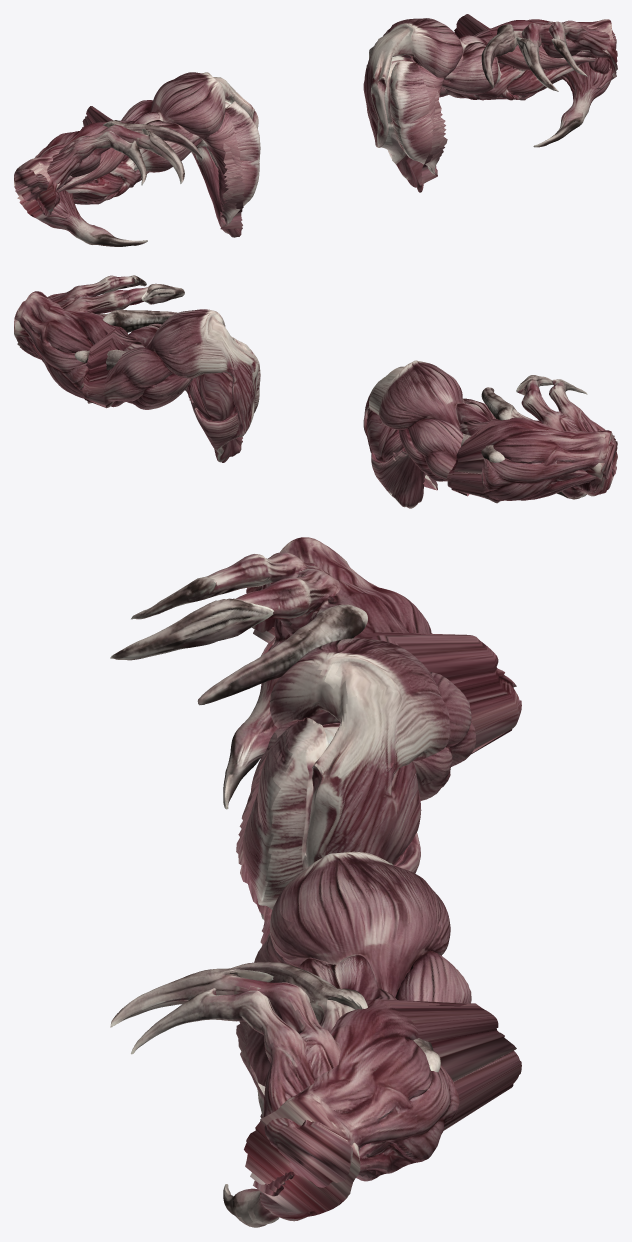
Rendered from aethelred_braco_mutante_rig.glb.
3 renders of one model, top to bottom at view 1: azimuth 30°, elevation 25°; view 2: azimuth 150°, elevation 25°; view 3: azimuth 270°, elevation 25°, orthographic. The views are drawn at different scales.
Visible parts, largest first — view 1: bracos; view 2: bracos; view 3: bracos.
Part boxes in pixels (x1=…): bracos: x1=14, y1=14, x2=617, y2=246; bracos: x1=14, y1=275, x2=617, y2=508; bracos: x1=110, y1=537, x2=521, y2=1227.
Size of the model in its own units: 0.014 by 0.00346 by 0.00422.
1 material, 1 textured.
